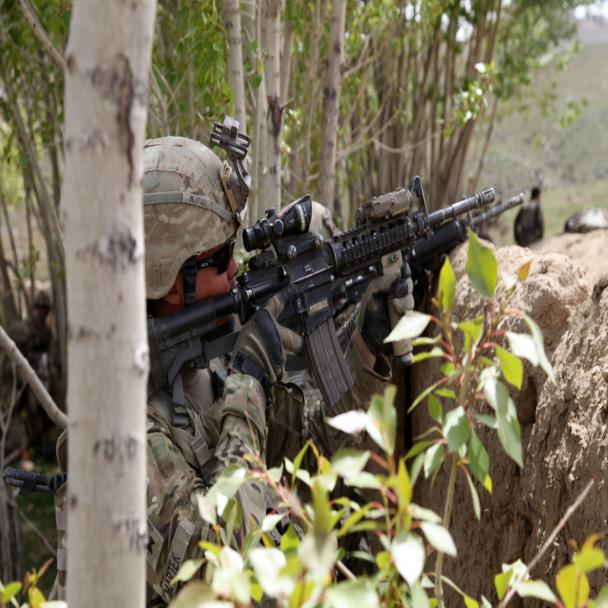Gun: (147, 185, 530, 385)
Hand: (230, 280, 312, 401), (355, 256, 428, 372)
